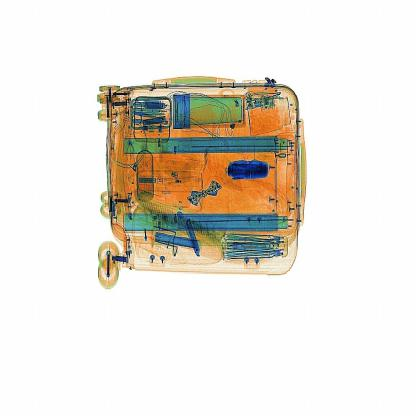scissors: (225, 146, 269, 185)
